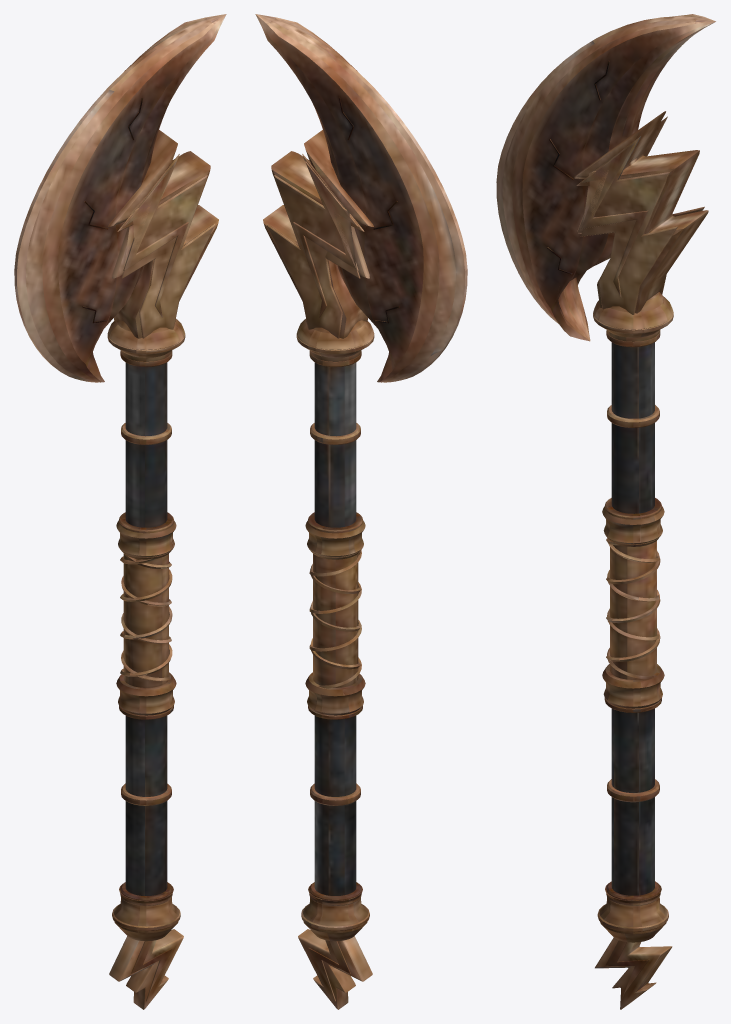
The model's file is arc_weapon.glb.
The picture shows the model from 3 angles, left to right: view 1: azimuth 30°, elevation 25°; view 2: azimuth 150°, elevation 25°; view 3: azimuth 330°, elevation 25°; orthographic projection. The views are drawn at different scales.
Size of the model in its own units: 0.4546 by 2 by 0.1454.
1 material, 1 textured.
